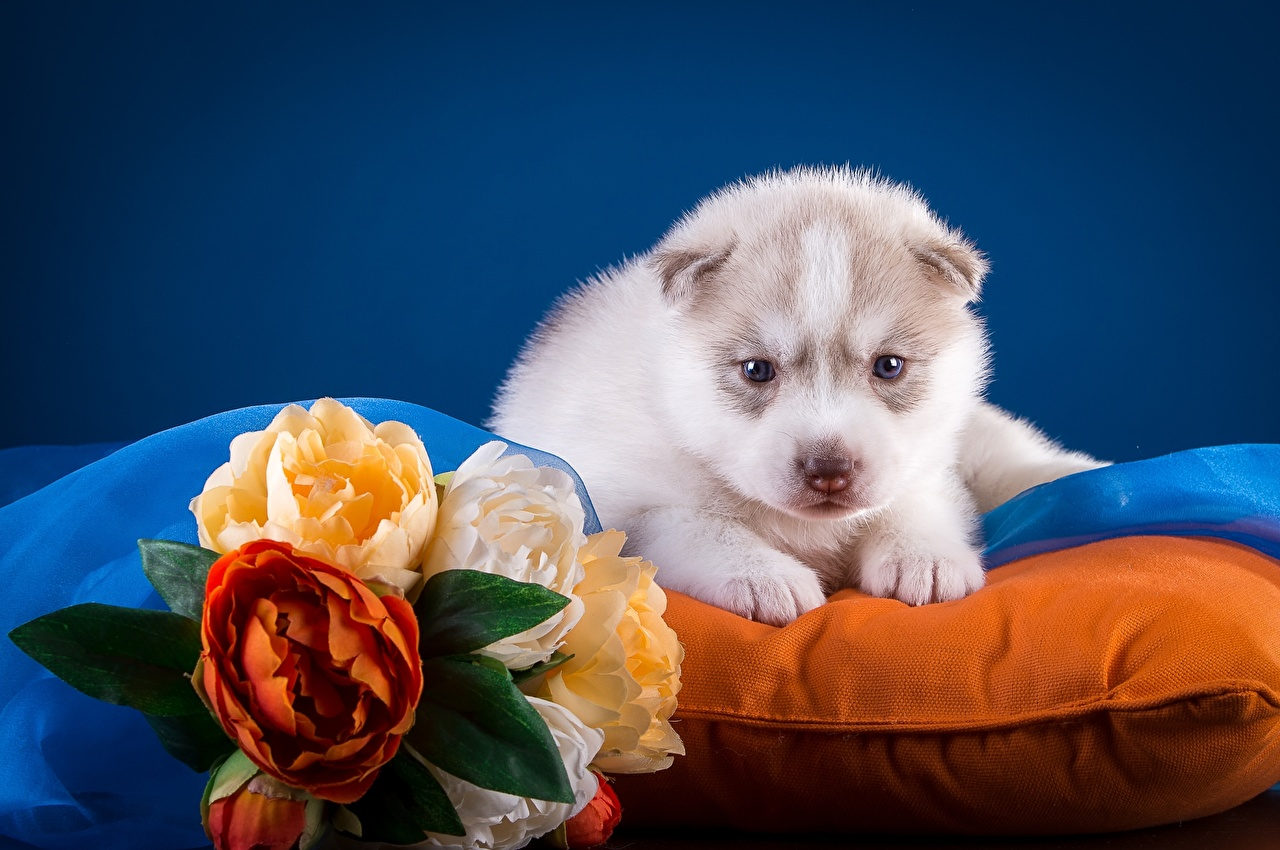husky: (500, 108, 1078, 692)
